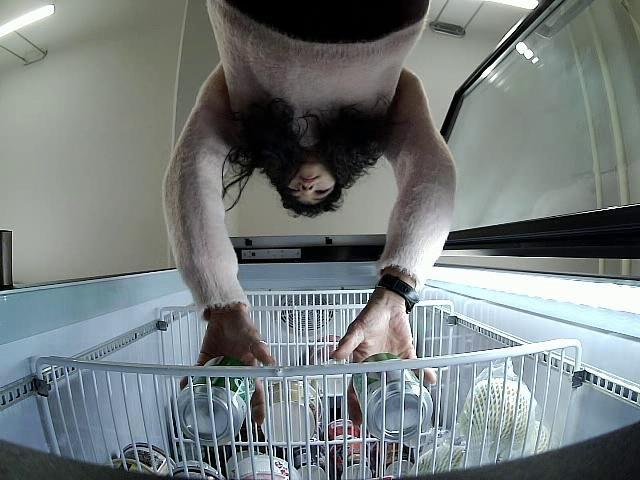12_chilsungCider: (352, 352, 434, 440), (178, 354, 254, 447)
